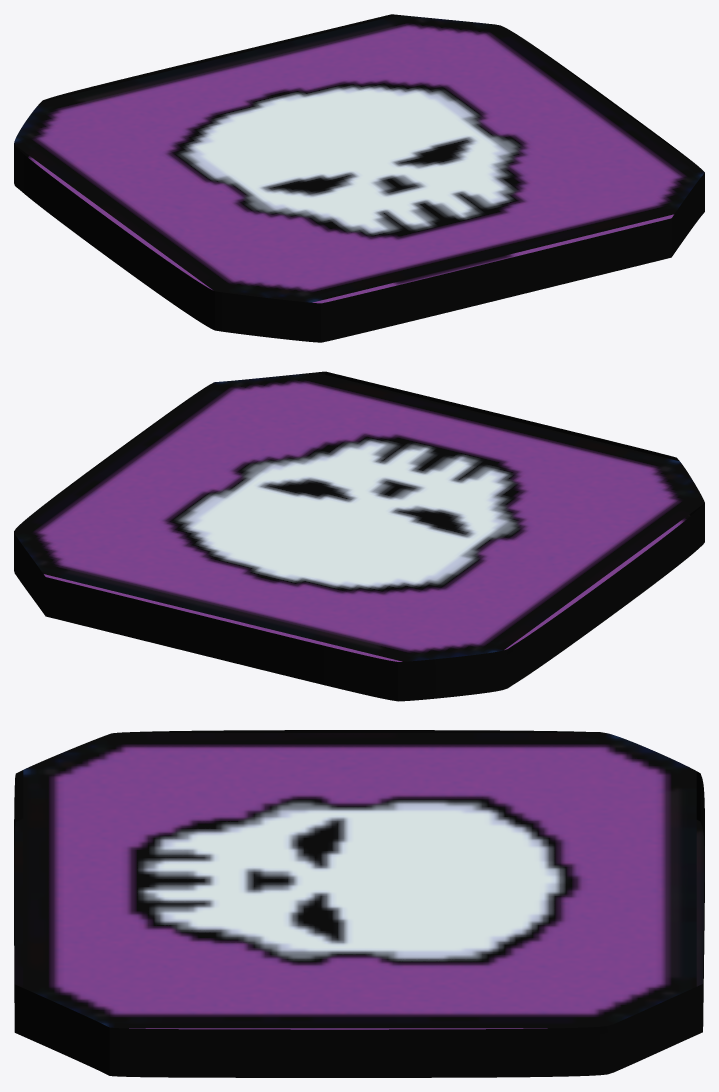
The model's file is ThreatToken.fbx.
The picture shows the model from 3 angles, top to bottom: view 1: azimuth 30°, elevation 25°; view 2: azimuth 150°, elevation 25°; view 3: azimuth 270°, elevation 25°; orthographic projection. The views are drawn at different scales.
Parts seen in each view (by area): view 1: ThreatToken; view 2: ThreatToken; view 3: ThreatToken.
Part boxes in pixels (box(x1,y1,x2,y2)): ThreatToken: box(14, 14, 704, 342); ThreatToken: box(14, 371, 704, 701); ThreatToken: box(14, 730, 704, 1077).
Size of the model in its own units: 5.31 by 0.4 by 5.17.
Materials: 3 (2 with a texture image).
